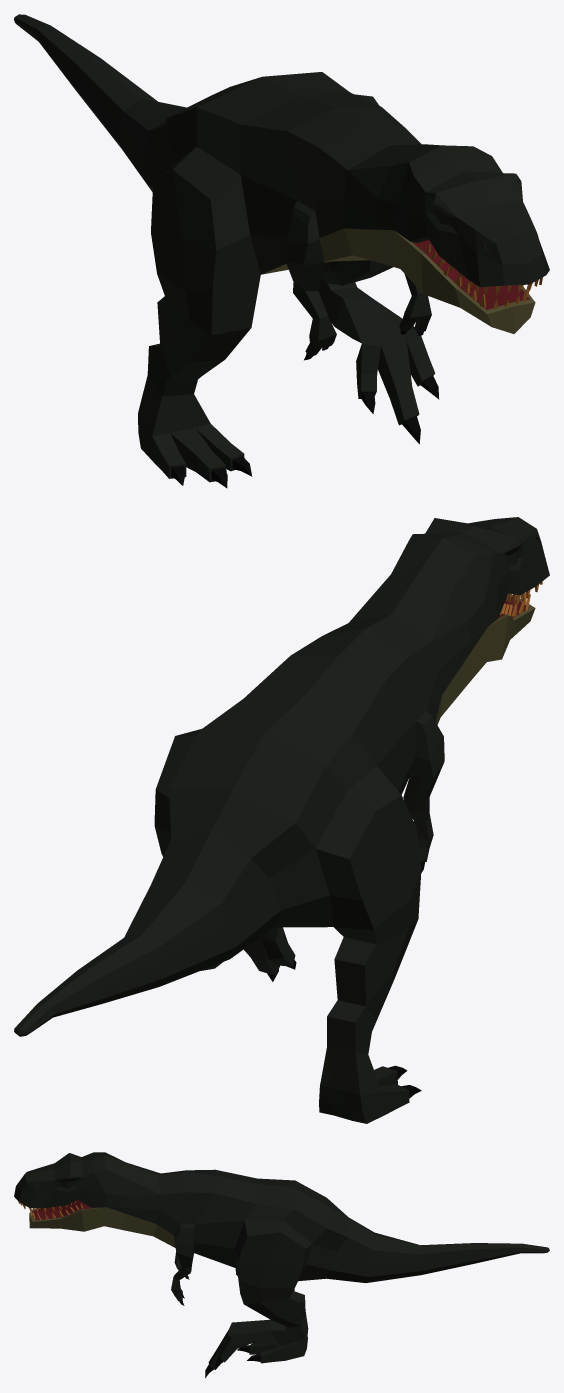
The model's file is Trex_000026.obj.
3 renders of one model, top to bottom at view 1: azimuth 30°, elevation 25°; view 2: azimuth 150°, elevation 25°; view 3: azimuth 270°, elevation 25°, orthographic. The views are drawn at different scales.
Visible parts, largest first — view 1: Trex_Cylinder; view 2: Trex_Cylinder; view 3: Trex_Cylinder.
Part boxes in pixels (box(x1,y1,x2,y2)): Trex_Cylinder: box(14, 14, 549, 488); Trex_Cylinder: box(14, 517, 549, 1123); Trex_Cylinder: box(14, 1152, 549, 1377).
Bounding box in the file's own units: 7.96 × 14.27 × 31.43.
